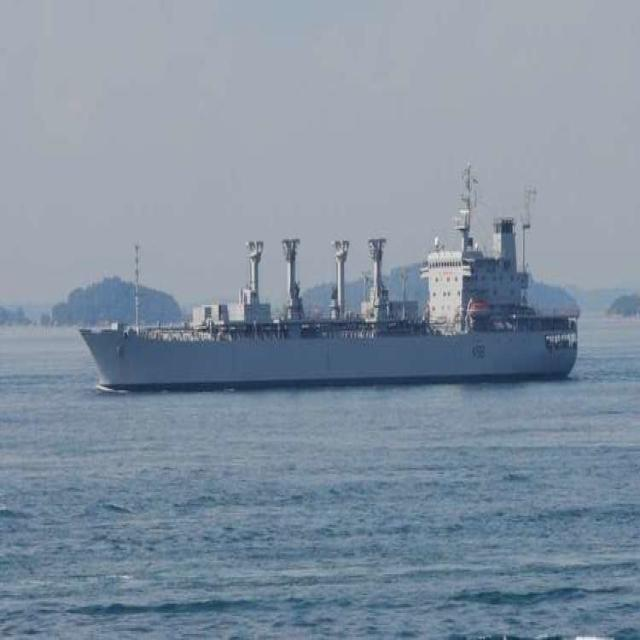Tanker-Komandarm_Fedko_Class-IND: (73, 152, 581, 394)
